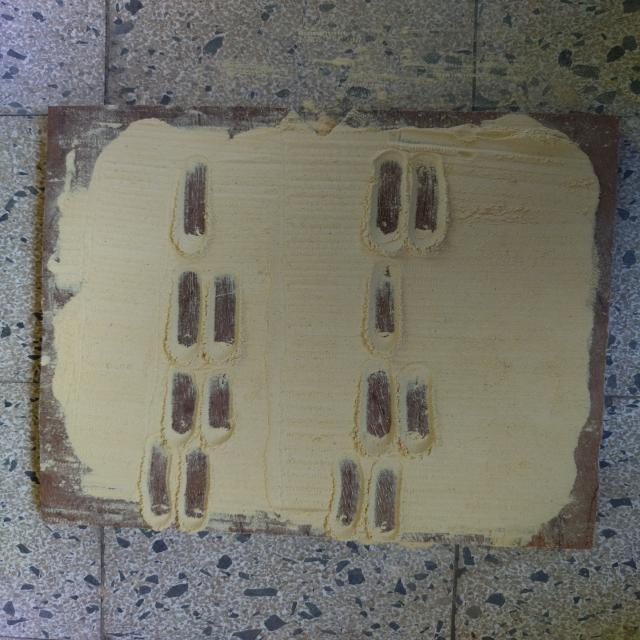double: (359, 146, 457, 260), (161, 263, 248, 369), (349, 362, 442, 460), (132, 437, 222, 534), (322, 453, 413, 546), (158, 367, 242, 447)
single: (357, 252, 412, 363), (166, 150, 220, 258)
